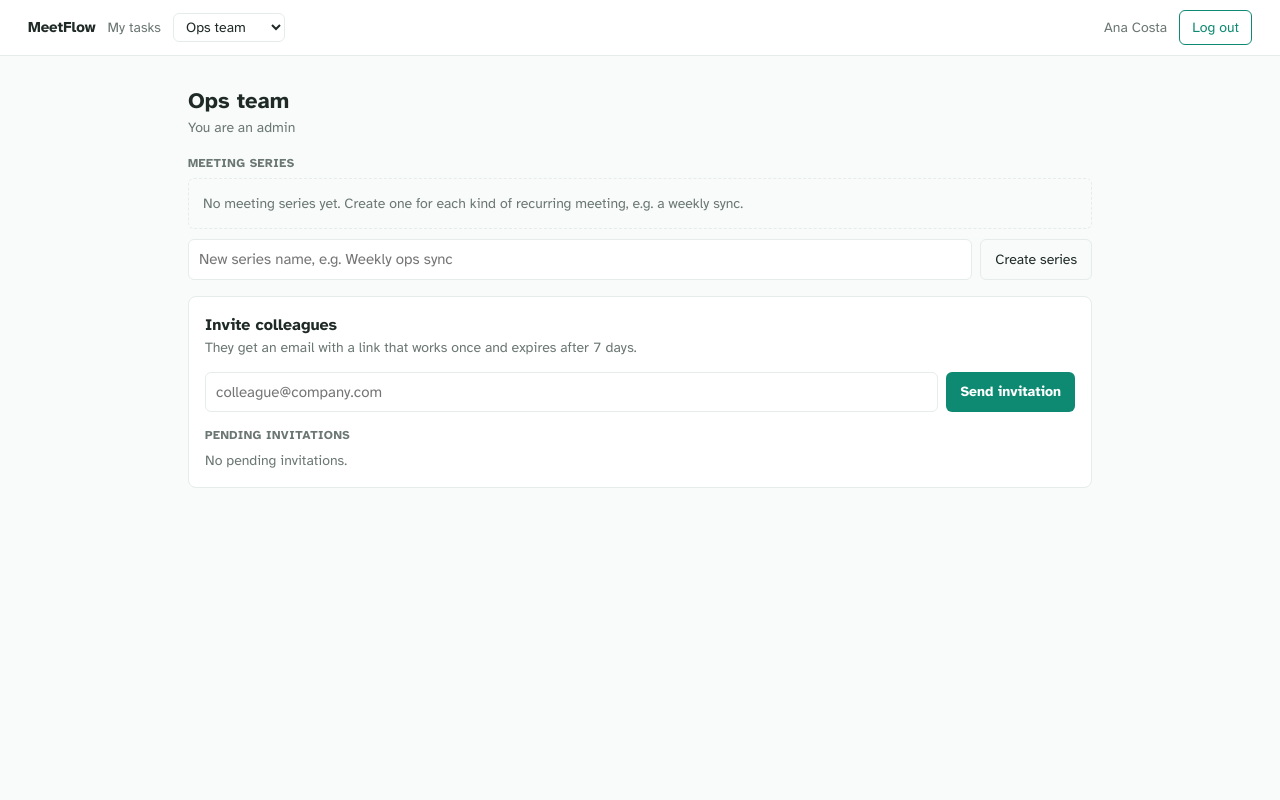
it: inviting colleagues from the team page › sends an invitation and lists it as pending
Expected: the text "No pending invitations." is shown, [205, 452, 347, 469]
Type " sofia@example.com " into the field named "Email to invite" at (572, 392), box [205, 372, 938, 412]
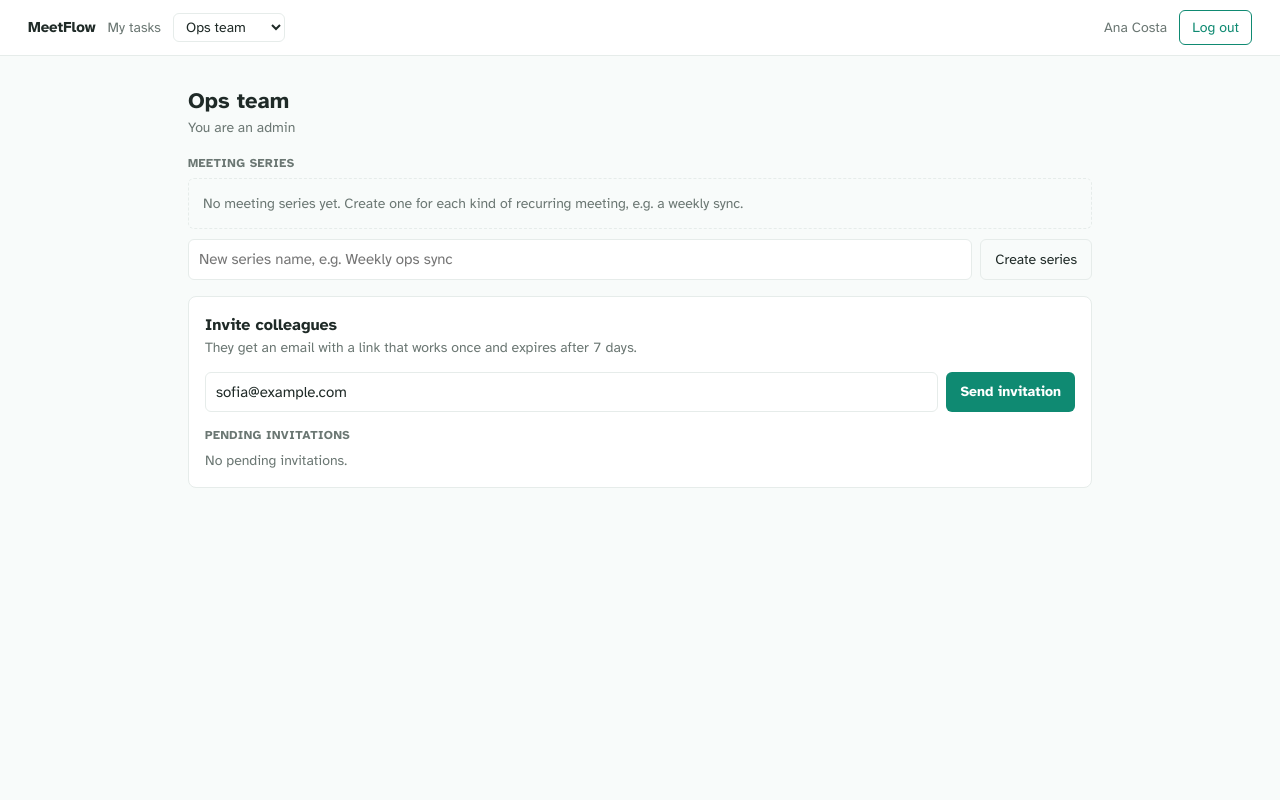
Click the button "Send invitation" at (1011, 392), box [946, 372, 1075, 412]
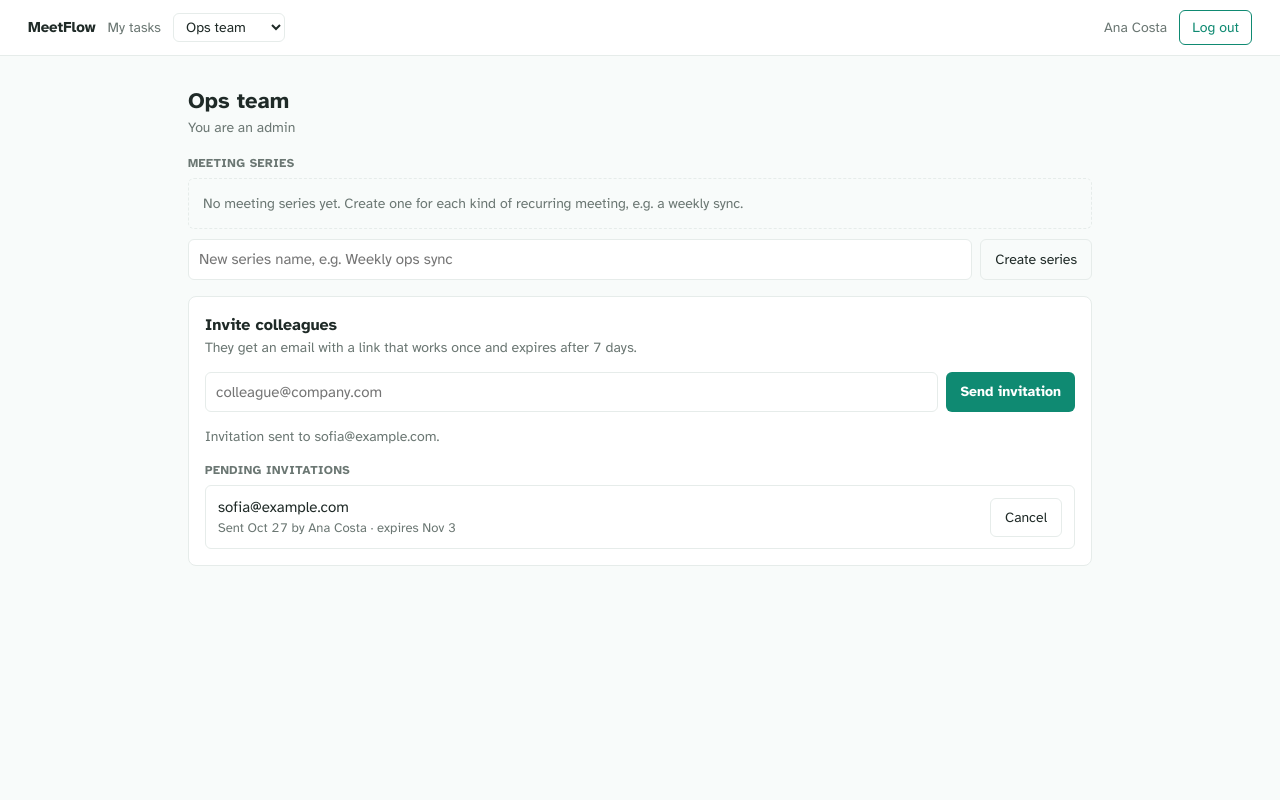
Now the message shows "Invitation sent to sofia@example.com", box [205, 428, 439, 445]
Now the text "sofia@example.com" is shown, box [218, 498, 349, 516]
Now the text "Sent Oct 27 by Ana Costa · expires Nov 3" is shown, box [218, 518, 456, 538]
